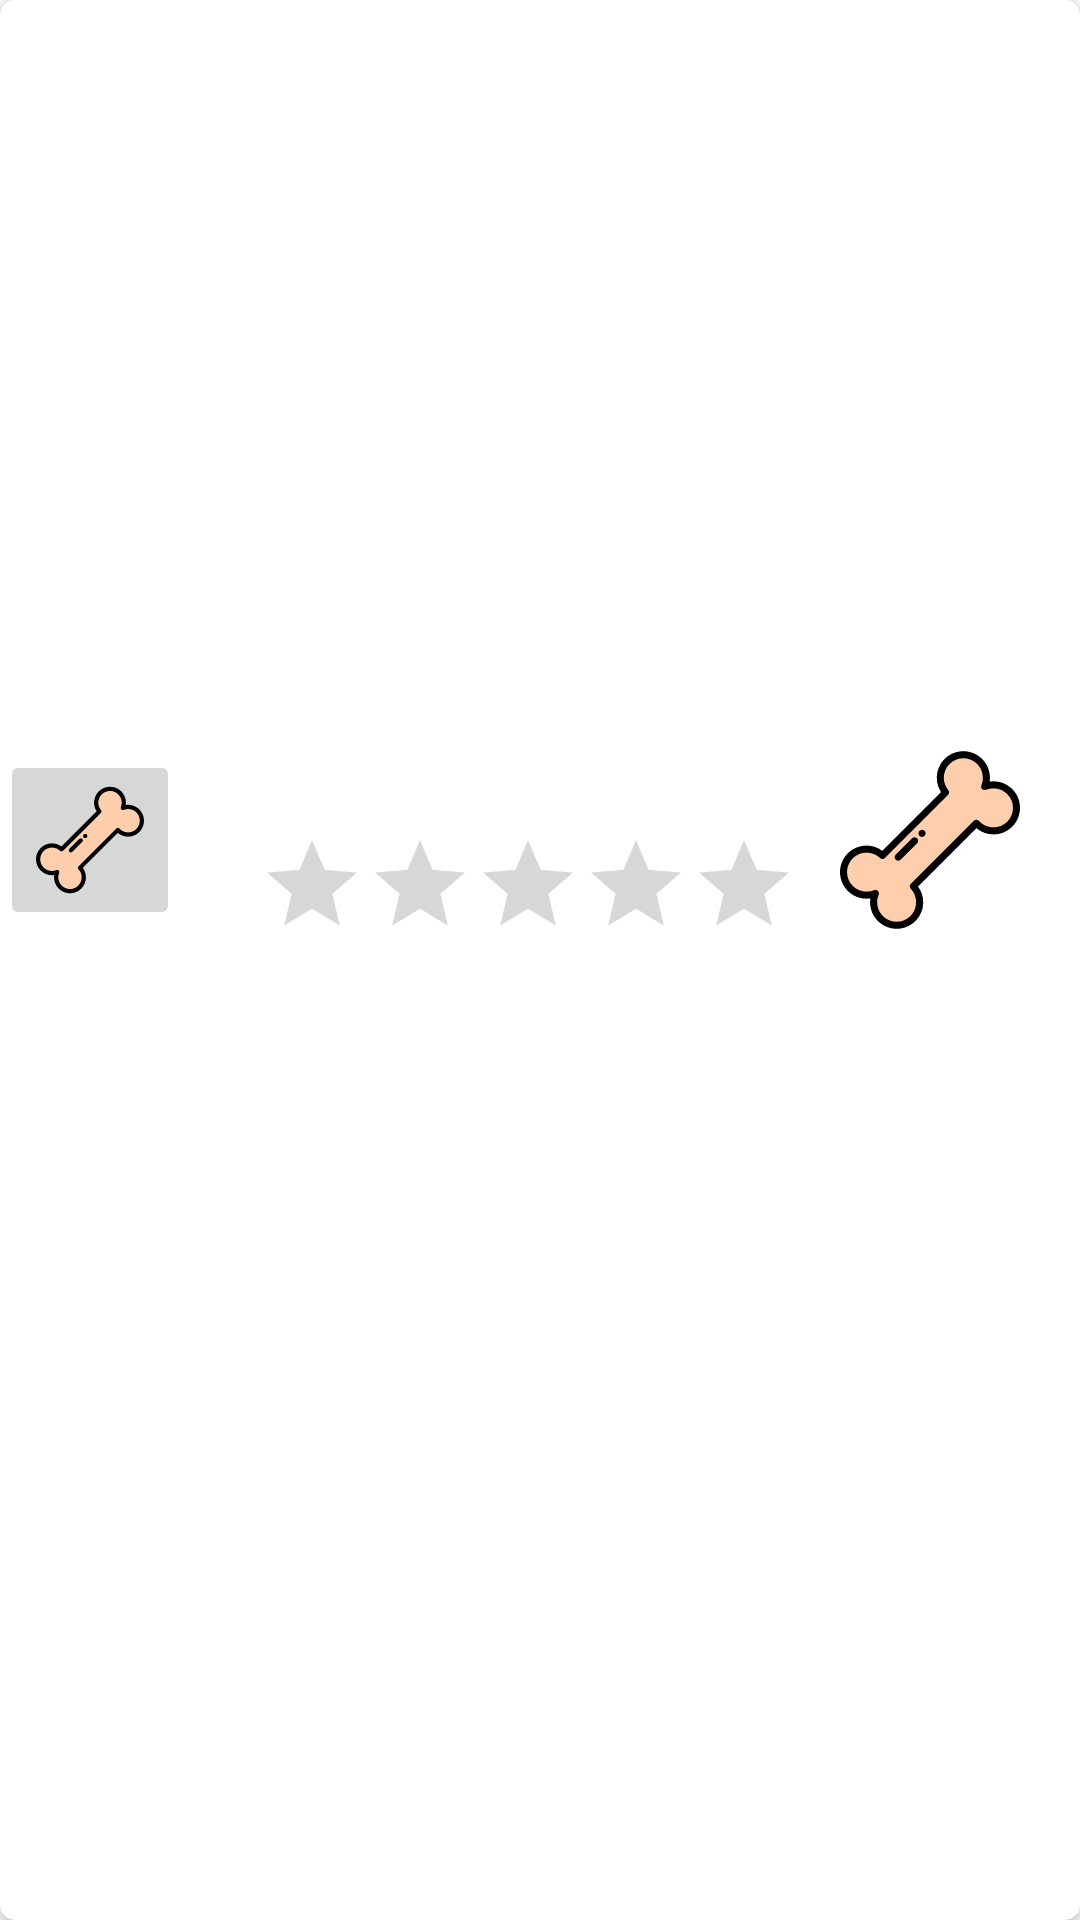

Icon bounding boxes for this 1080×1920 phone screenshot, format [x1=x1, y1=y1, x2=x2, y2=y2]:
hueso: [x1=840, y1=751, x2=1020, y2=929], [x1=12, y1=768, x2=168, y2=912]
